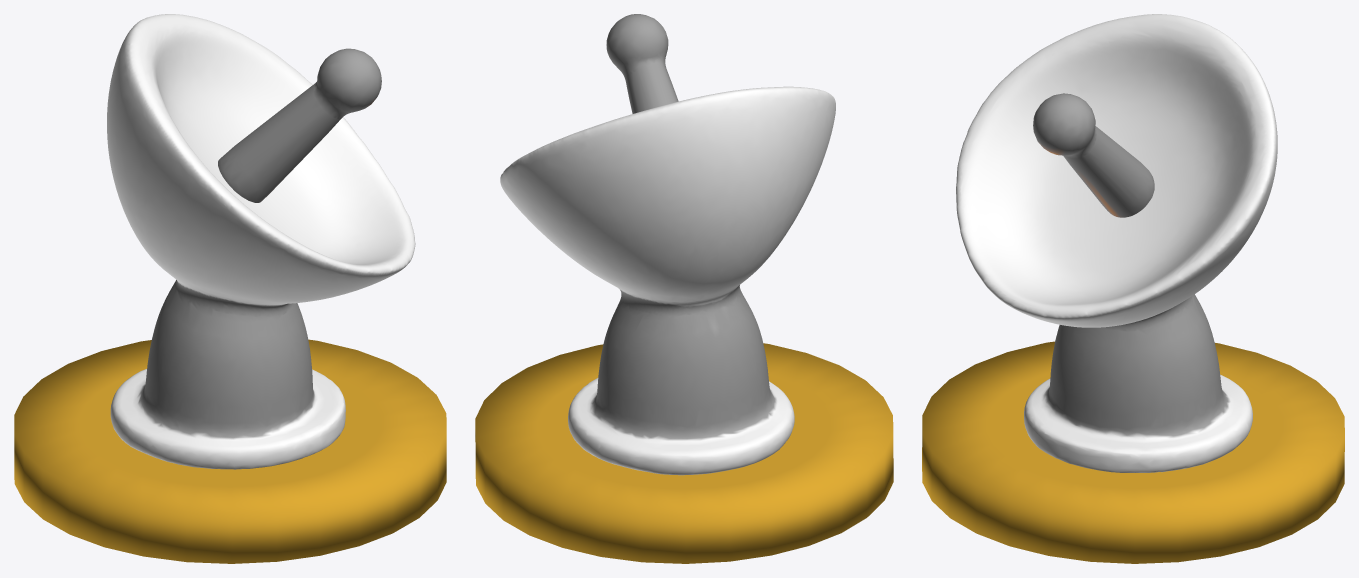
The model's file is Plate 2.obj.
3 views of the same model, side by side, from view 1: azimuth 30°, elevation 25°; view 2: azimuth 150°, elevation 25°; view 3: azimuth 270°, elevation 25° (orthographic). The views are drawn at different scales.
Visible parts, largest first — view 1: Sphere_1, Cylinder, Sphere; view 2: Sphere_1, Cylinder, Sphere; view 3: Sphere_1, Cylinder, Sphere.
Part boxes in pixels (<box>): Sphere_1: <box>107,14,415,469</box>; Cylinder: <box>14,339,446,563</box>; Sphere: <box>218,48,381,202</box>; Sphere_1: <box>500,86,835,475</box>; Cylinder: <box>475,343,893,563</box>; Sphere: <box>606,14,678,113</box>; Sphere_1: <box>956,14,1277,472</box>; Cylinder: <box>922,341,1344,563</box>; Sphere: <box>1033,93,1154,217</box>.
Bounding box in the file's own units: 0.2484 × 0.2731 × 0.2473.
Materials: 3 (3 with a texture image).
